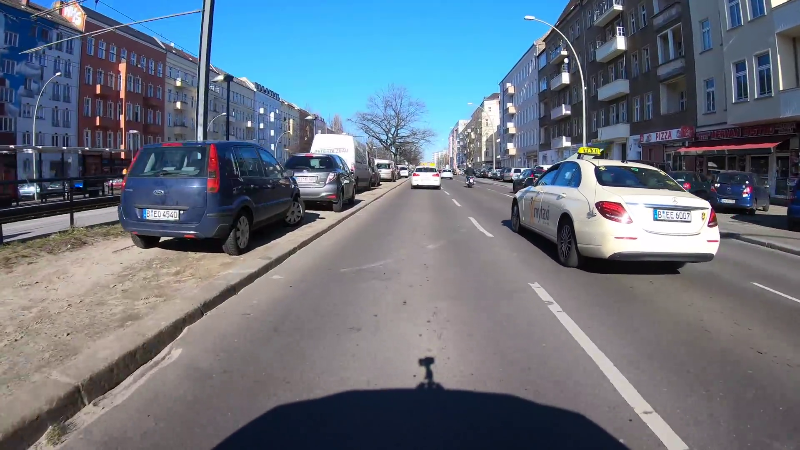Plate: (652, 206, 695, 223), (137, 205, 180, 221), (294, 176, 317, 183)
